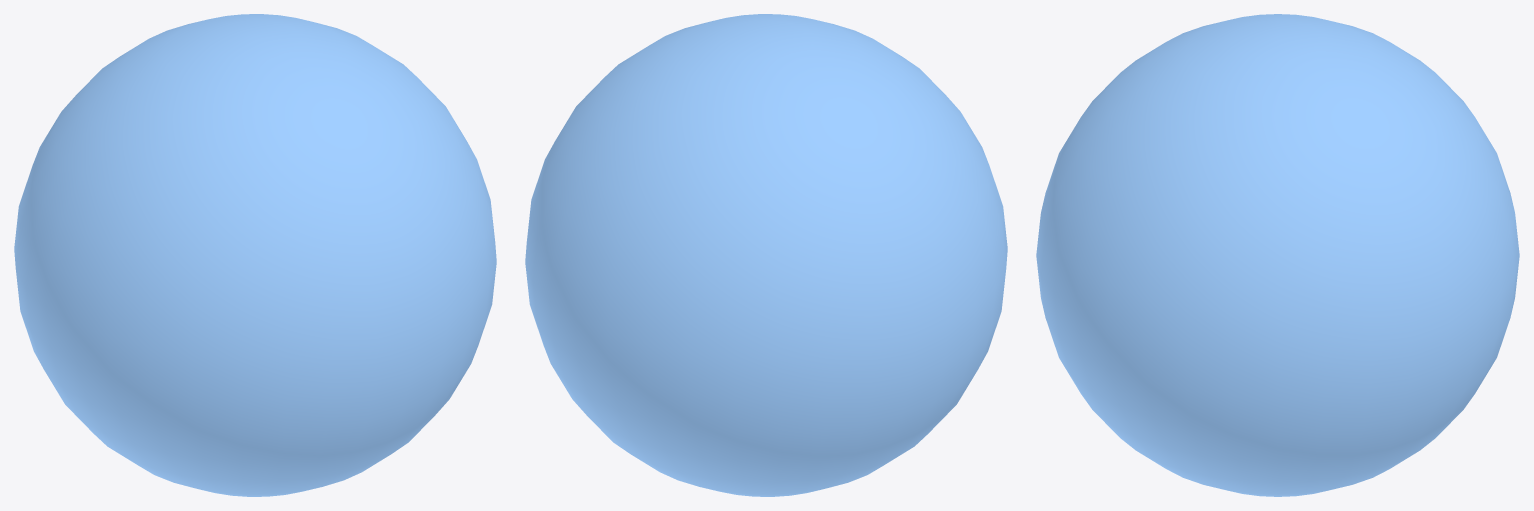
3 views of the same model, side by side, from view 1: azimuth 30°, elevation 25°; view 2: azimuth 150°, elevation 25°; view 3: azimuth 270°, elevation 25° (orthographic).
Parts seen in each view (by area): view 1: Panorama exterieur; view 2: Panorama exterieur; view 3: Panorama exterieur.
Part boxes in pixels (left/top/right/bottom): Panorama exterieur: left=14, top=14, right=496, bottom=496; Panorama exterieur: left=525, top=14, right=1007, bottom=496; Panorama exterieur: left=1036, top=14, right=1519, bottom=496.
Bounding box in the file's own units: 600 × 600 × 600.
